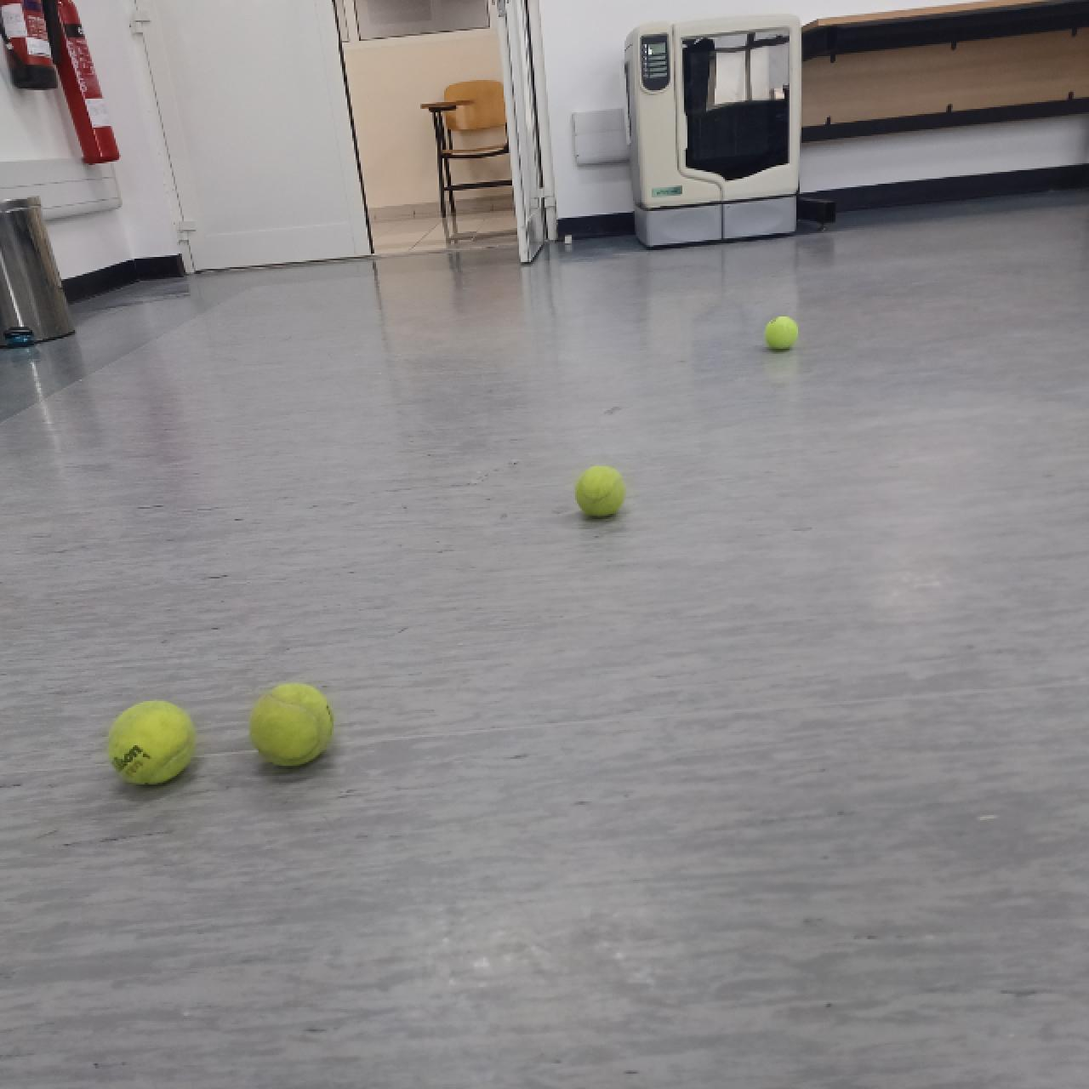tennis-ball: (106, 697, 198, 786), (248, 681, 335, 768), (574, 462, 627, 521), (764, 315, 799, 352)
